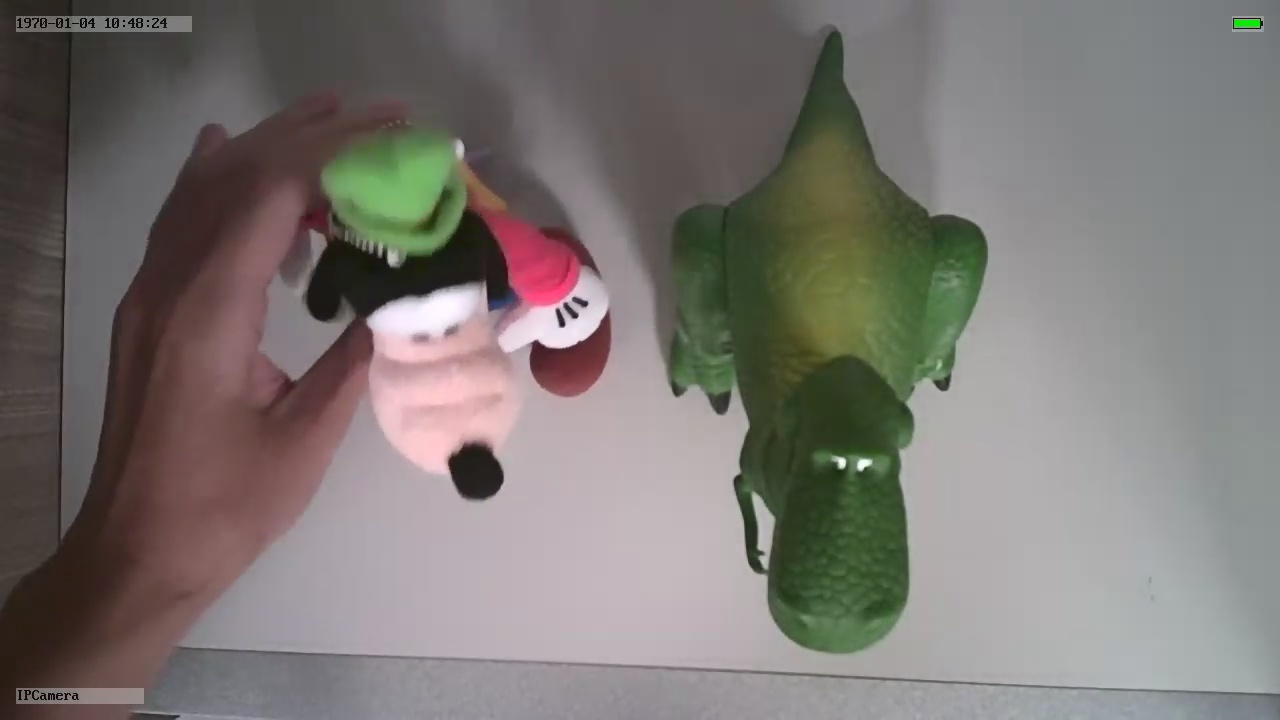rex: (667, 117, 988, 658)
